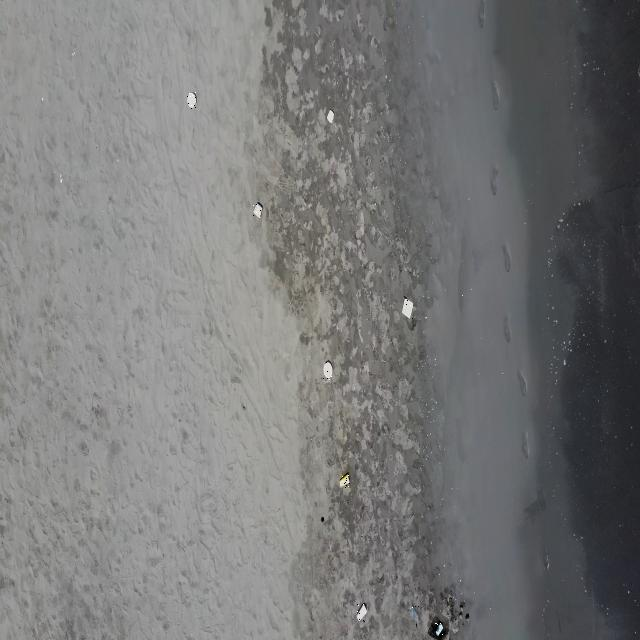take-away-containers: (400, 297, 412, 319), (323, 360, 333, 380), (253, 201, 263, 220), (187, 91, 197, 109), (326, 109, 335, 124)
takeaway-cup: (356, 603, 368, 622), (339, 473, 350, 488), (409, 605, 419, 621), (434, 622, 442, 636)
